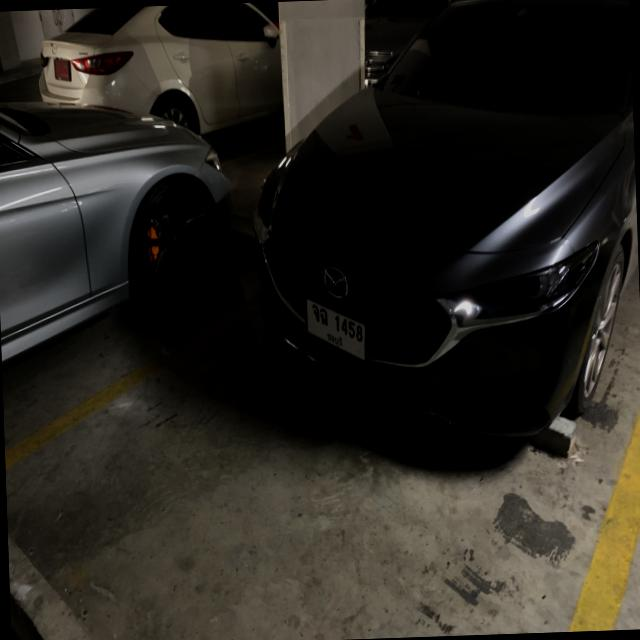license_plate: (302, 288, 371, 367)
